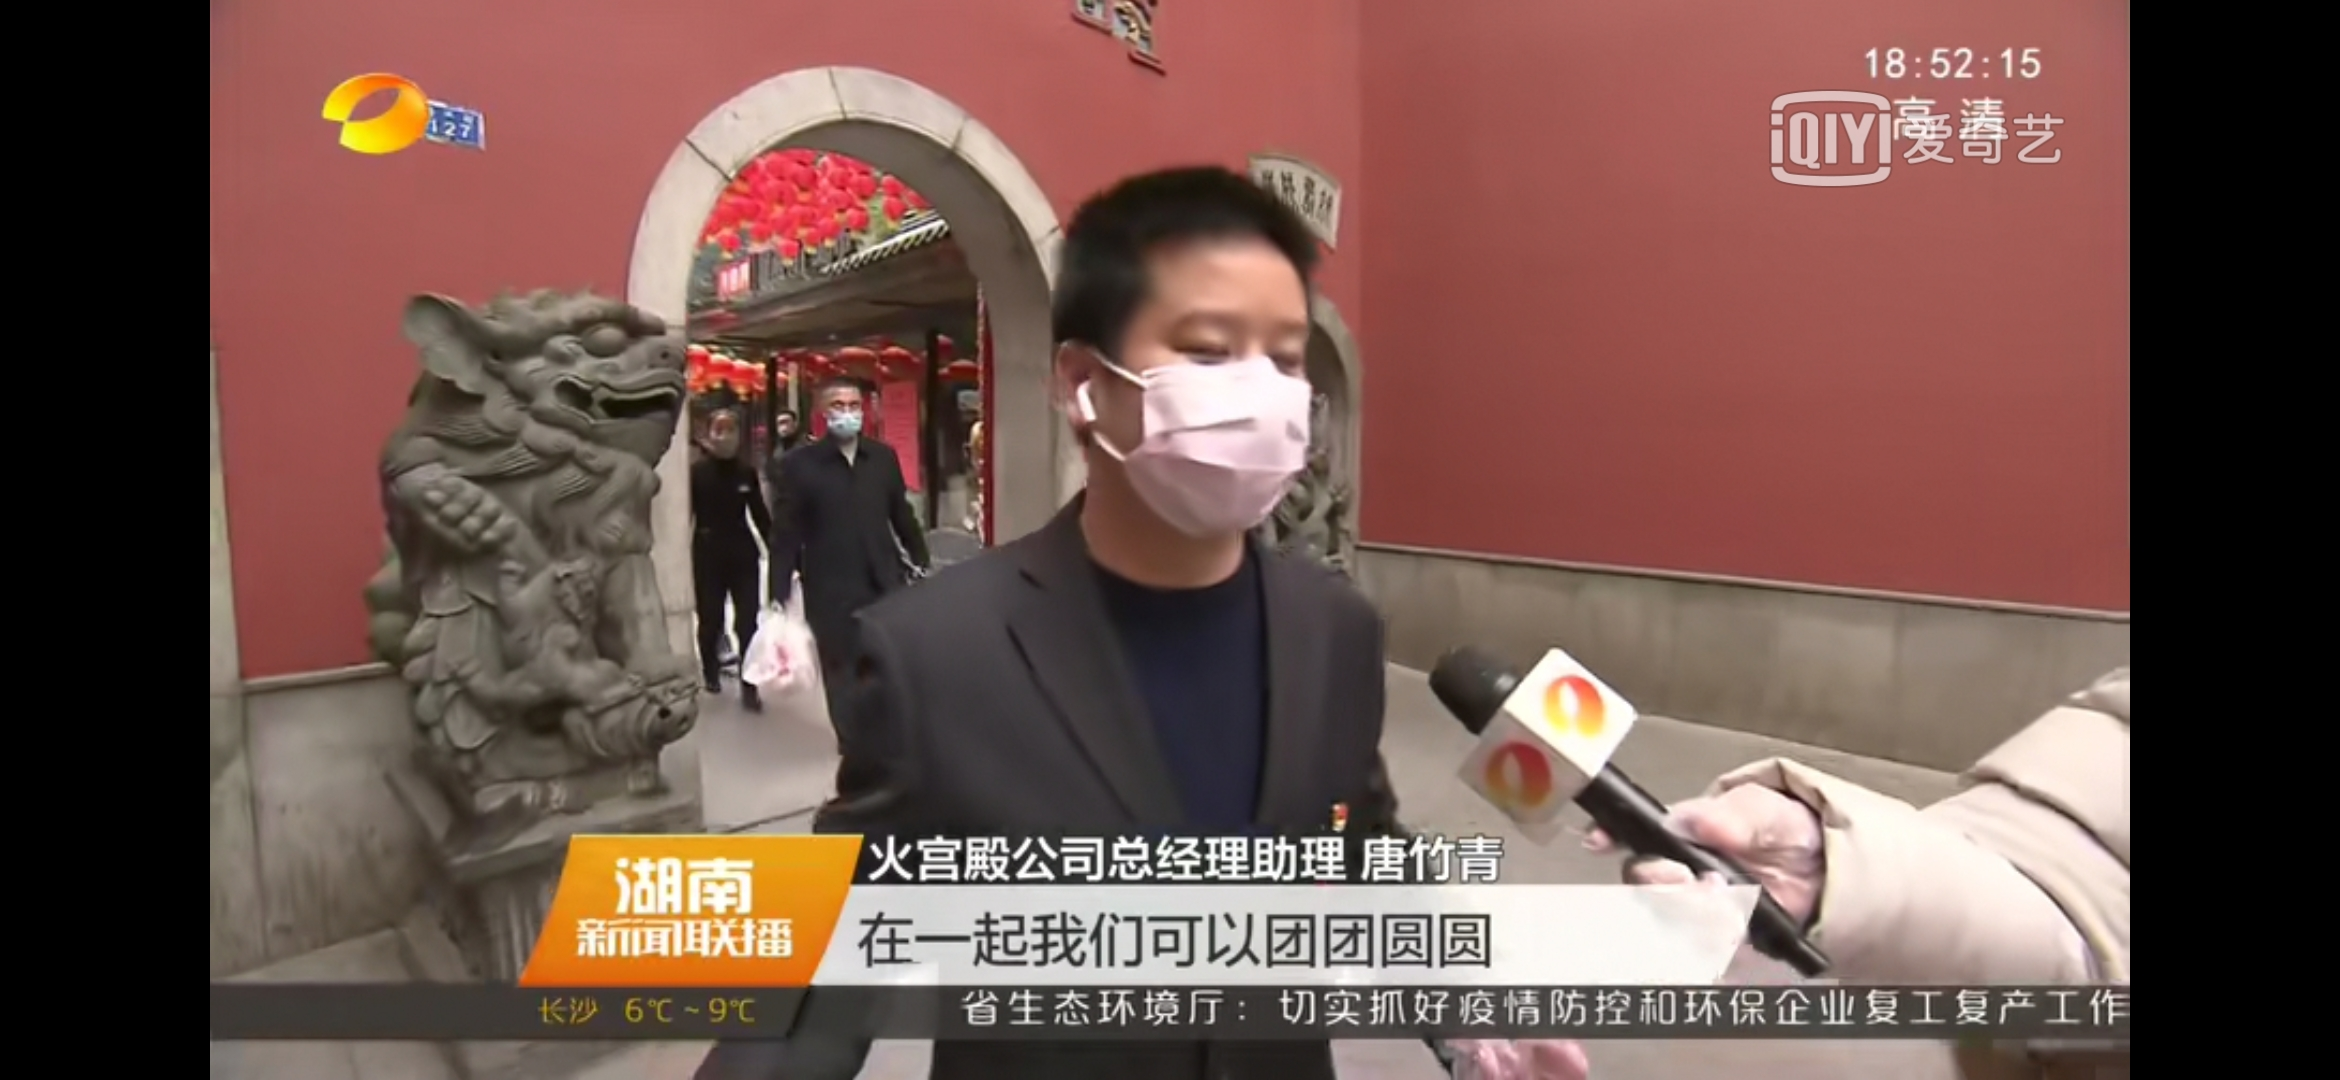correctlyWear: (1061, 304, 1328, 565), (821, 397, 867, 440), (709, 421, 742, 456), (778, 415, 792, 437)
